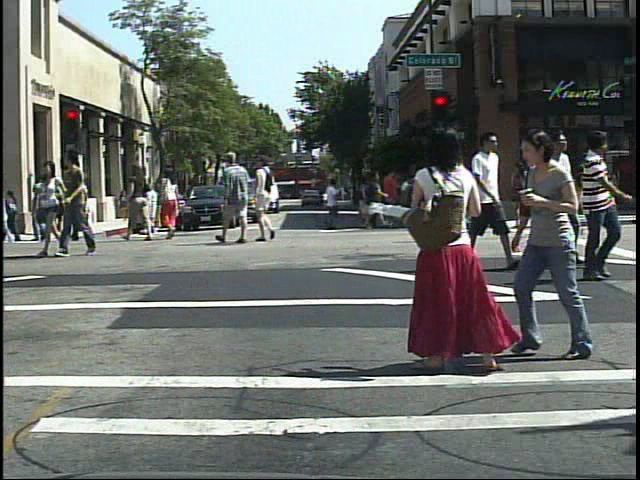person: (393, 123, 496, 378), (509, 121, 604, 366), (453, 128, 519, 277), (532, 132, 594, 281), (578, 127, 631, 283), (443, 142, 490, 248), (59, 148, 100, 262), (215, 149, 254, 247), (36, 159, 73, 261), (253, 152, 282, 246), (122, 163, 153, 242), (157, 165, 187, 244), (67, 169, 93, 247), (409, 164, 436, 233), (34, 168, 57, 245), (481, 165, 507, 233)
